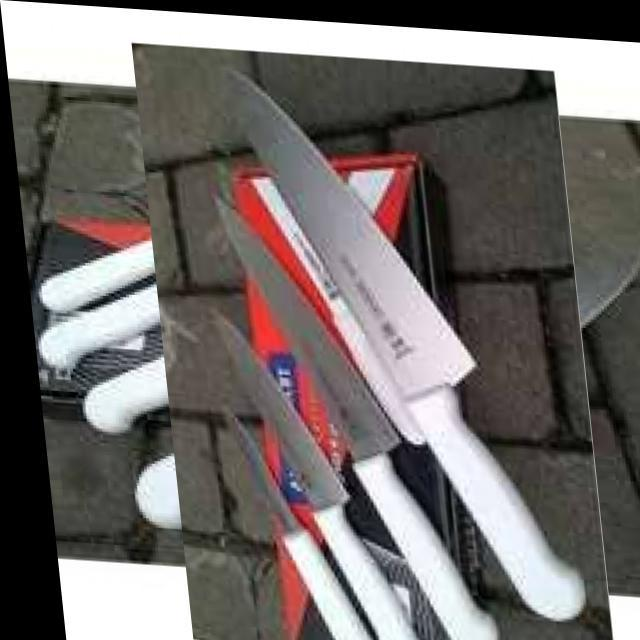knife: (91, 82, 640, 619)
